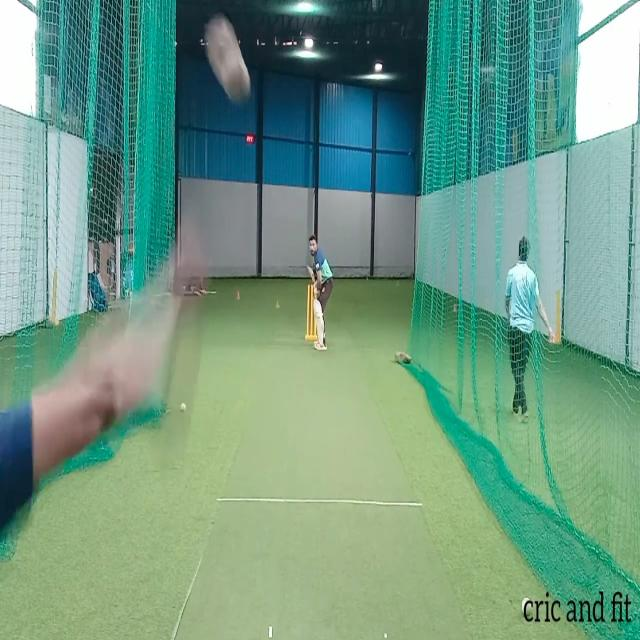batsman: (306, 234, 335, 352)
